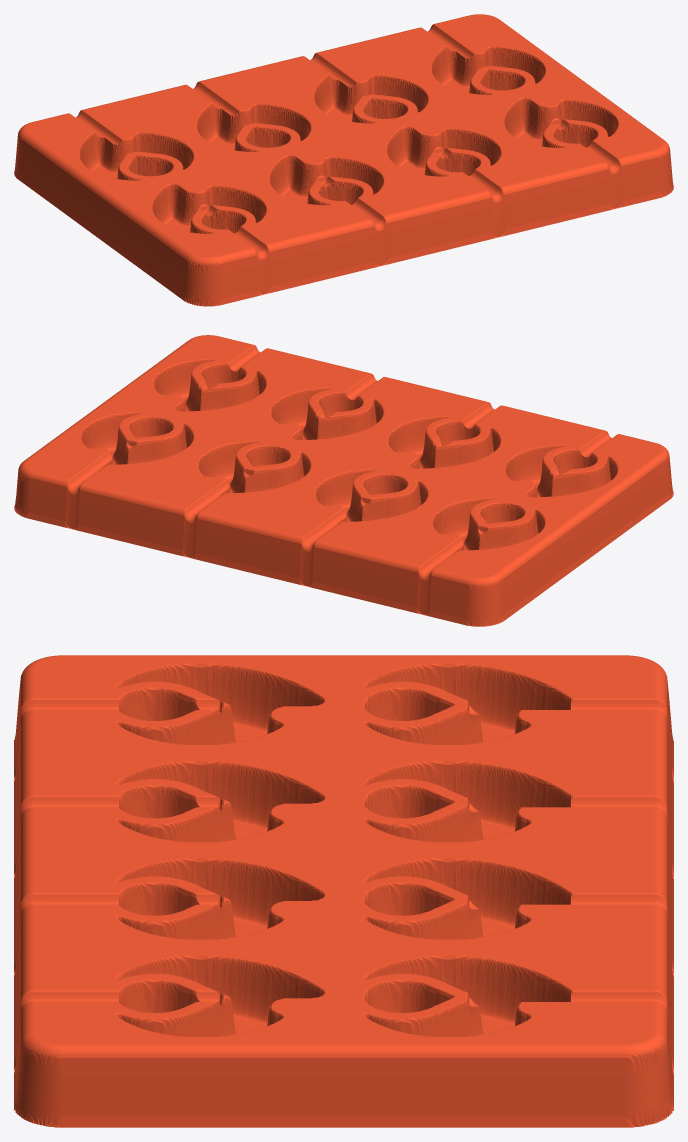
File: mold.glb
The picture shows the model from 3 angles, top to bottom: view 1: azimuth 30°, elevation 25°; view 2: azimuth 150°, elevation 25°; view 3: azimuth 270°, elevation 25°; orthographic projection. The views are drawn at different scales.
Visible parts, largest first — view 1: geometry_0; view 2: geometry_0; view 3: geometry_0.
Boxes of the visible parts, x1=… form: geometry_0: x1=14, y1=14, x2=673, y2=306; geometry_0: x1=14, y1=335, x2=673, y2=626; geometry_0: x1=14, y1=655, x2=673, y2=1127.
Bounding box in the file's own units: 0.1779 × 0.0155 × 0.1229.
